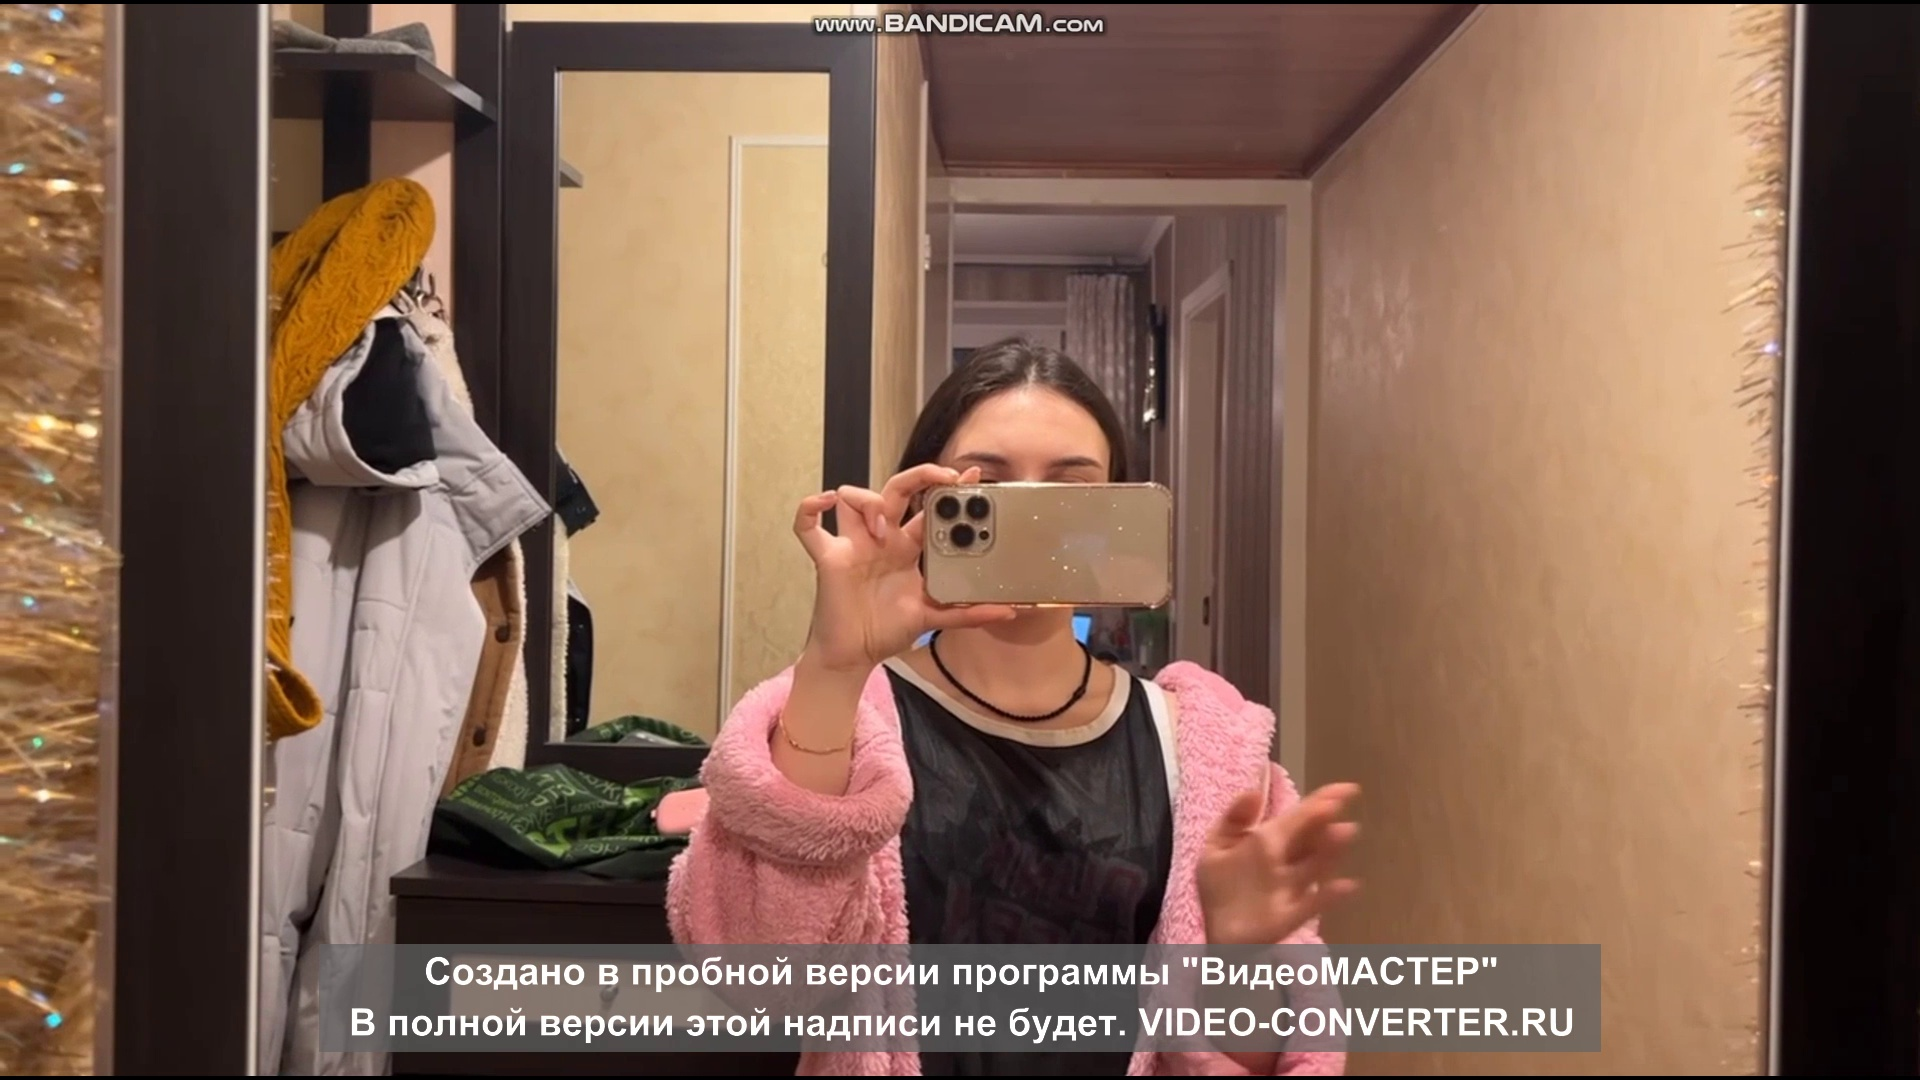Ладонь: (1193, 777, 1362, 942)
